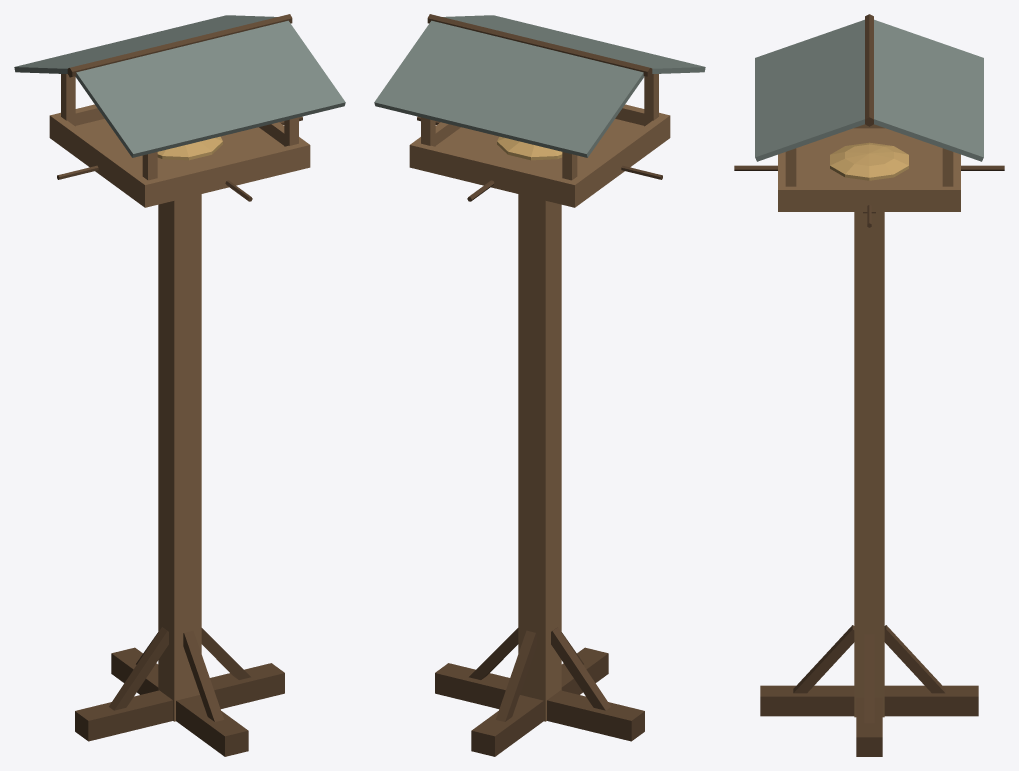
Rendered from bird_feeder.glb.
3 views of the same model, side by side, from view 1: azimuth 30°, elevation 25°; view 2: azimuth 150°, elevation 25°; view 3: azimuth 270°, elevation 25° (orthographic). The views are drawn at different scales.
Parts seen in each view (by area): view 1: BirdFeeder; view 2: BirdFeeder; view 3: BirdFeeder.
Boxes of the visible parts, x1=… form: BirdFeeder: x1=14, y1=14, x2=345, y2=756; BirdFeeder: x1=374, y1=14, x2=705, y2=756; BirdFeeder: x1=734, y1=14, x2=1004, y2=756.
Bounding box in the file's own units: 0.62 × 1.63 × 0.62.
